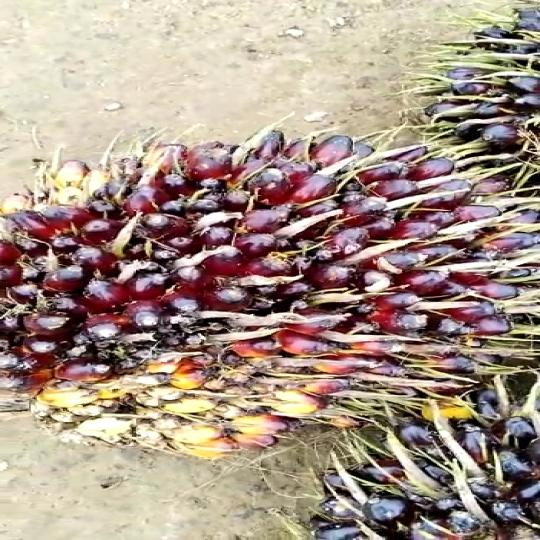mentah: (0, 137, 540, 464), (286, 417, 540, 536)
